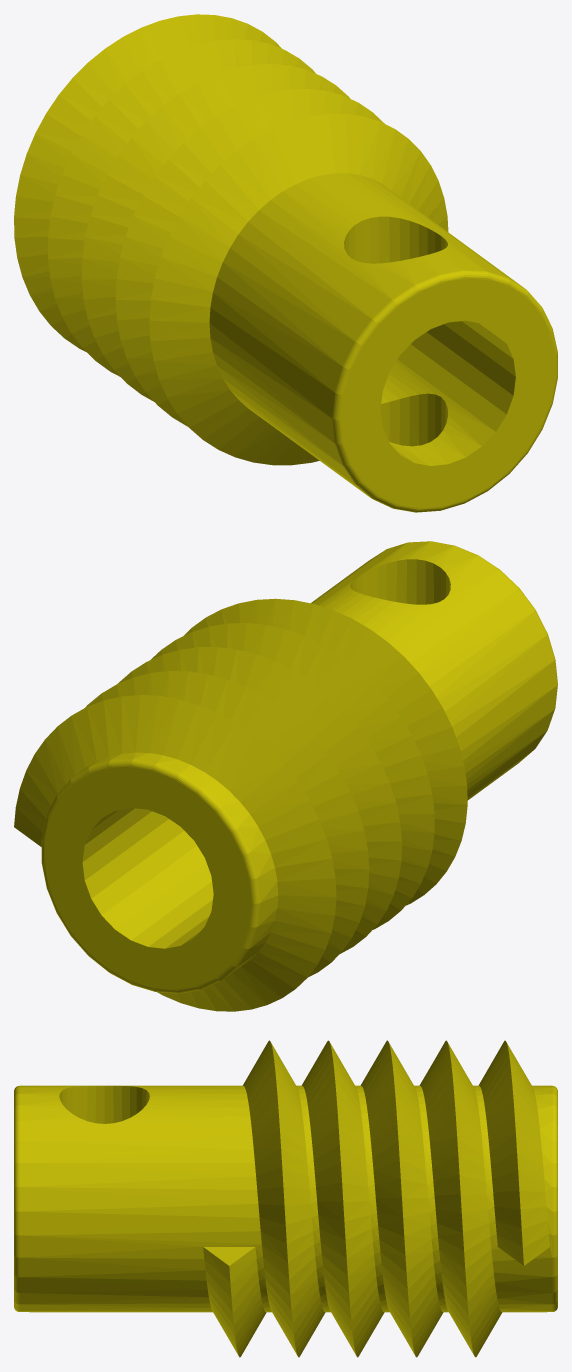
Rendered from BanhVit.glb.
3 renders of one model, top to bottom at view 1: azimuth 30°, elevation 25°; view 2: azimuth 150°, elevation 25°; view 3: azimuth 270°, elevation 25°, orthographic. The views are drawn at different scales.
Parts seen in each view (by area): view 1: BanhVit; view 2: BanhVit; view 3: BanhVit.
Part boxes in pixels (box(x1,y1,x2,y2)): BanhVit: box(14, 14, 557, 512); BanhVit: box(14, 541, 557, 1011); BanhVit: box(14, 1040, 557, 1357).
Bounding box in the file's own units: 28.34 × 28.34 × 48.59.
